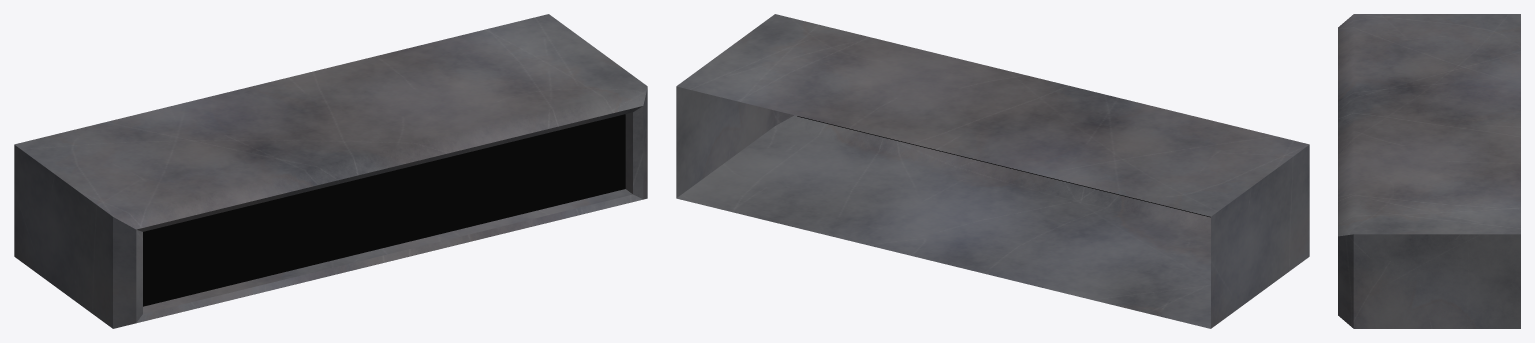
File: HeistPlatform01_1.fbx
The picture shows the model from 3 angles, left to right: view 1: azimuth 30°, elevation 25°; view 2: azimuth 150°, elevation 25°; view 3: azimuth 270°, elevation 25°; orthographic projection. The views are drawn at different scales.
Parts seen in each view (by area): view 1: HeistPlatform01; view 2: HeistPlatform01; view 3: HeistPlatform01.
Boxes of the visible parts, x1,y1,x2,y2 form: HeistPlatform01: (14,14,647,328); HeistPlatform01: (676,14,1309,328); HeistPlatform01: (1338,14,1520,328).
Size of the model in its own units: 9.36 by 1.88 by 3.28.
Materials: 2 (1 with a texture image).
